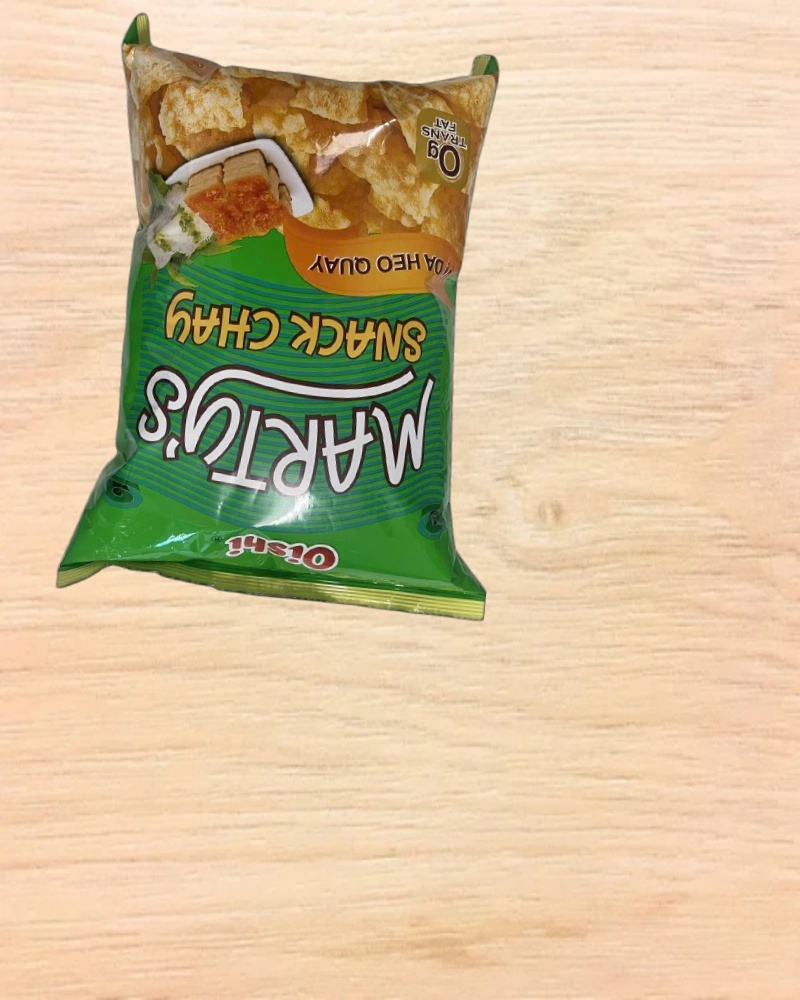Snack chay: (77, 14, 533, 626)
